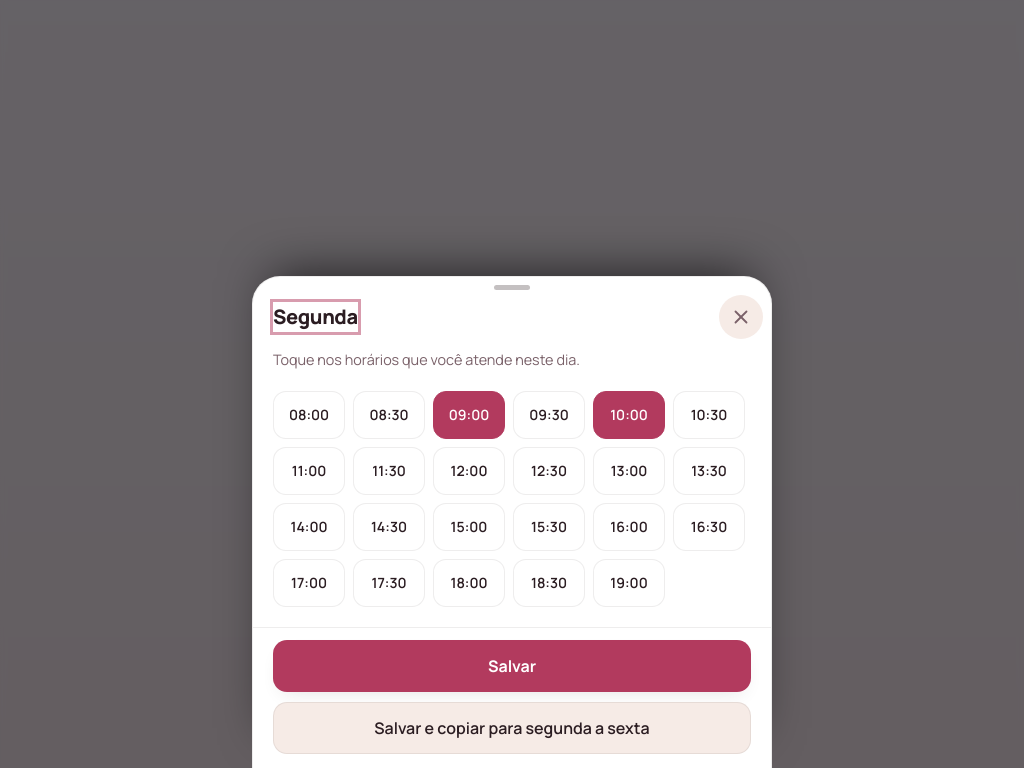
Test case: FolhaHorarioDia › erro ao salvar mostra mensagem humana
Click the button "Salvar": click(512, 666) [273, 640, 751, 692]
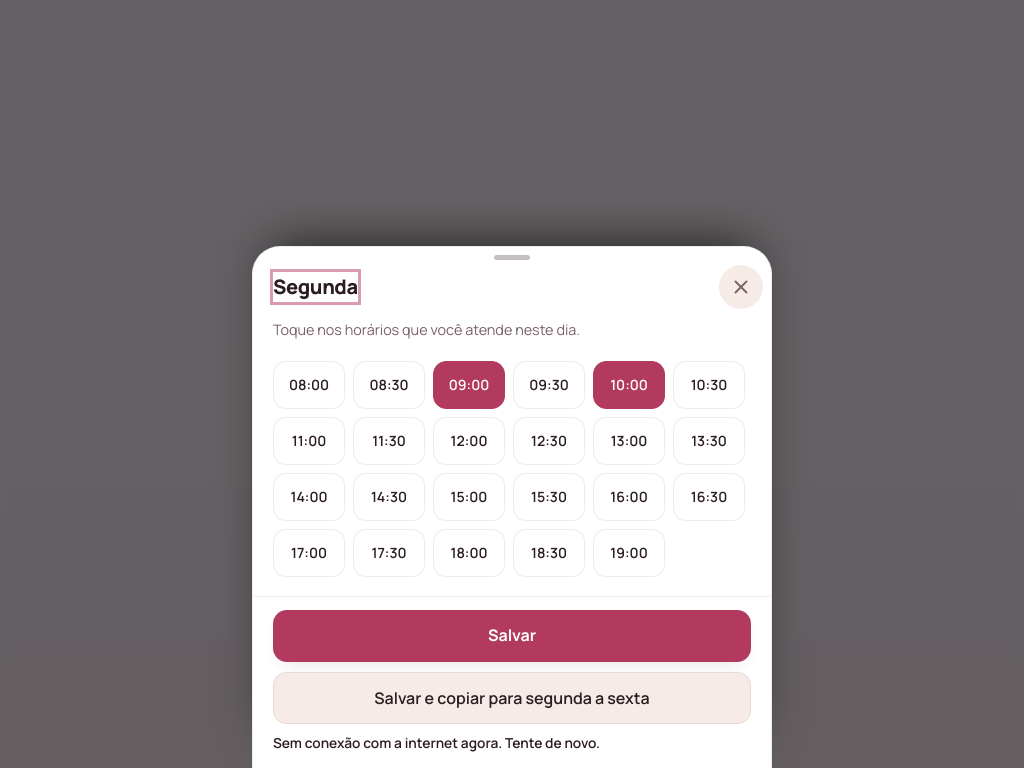
Expected: the text "Sem conexão com a internet agora. Tente de novo." is shown, [273, 733, 600, 752]
